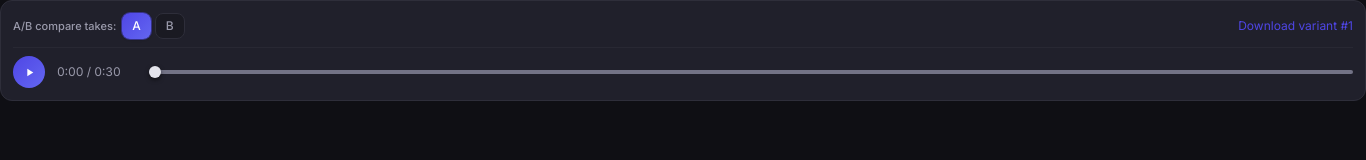
reports current playback failures without leaking internal errors and supports explicit retry
The width and height of the screenshot is (1366, 160).
Click the button named "Play": (29, 72) [13, 56, 45, 88]
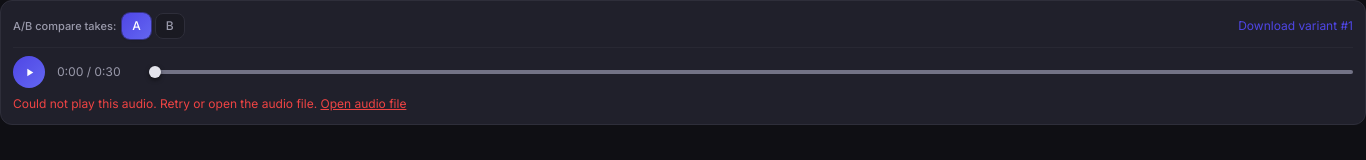
Expected: the message "Could not play this audio. Retry or open the audio file. Open audio file" is shown, [13, 96, 406, 111]
Click the button named "Play": (29, 72) [13, 56, 45, 88]
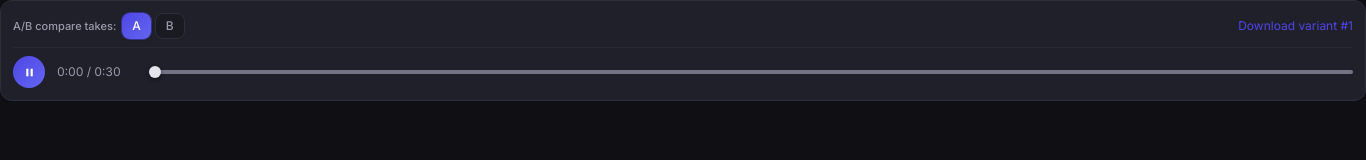
Expected: the message "Could not play this audio. Retry or open the audio file. Open audio file" is gone
